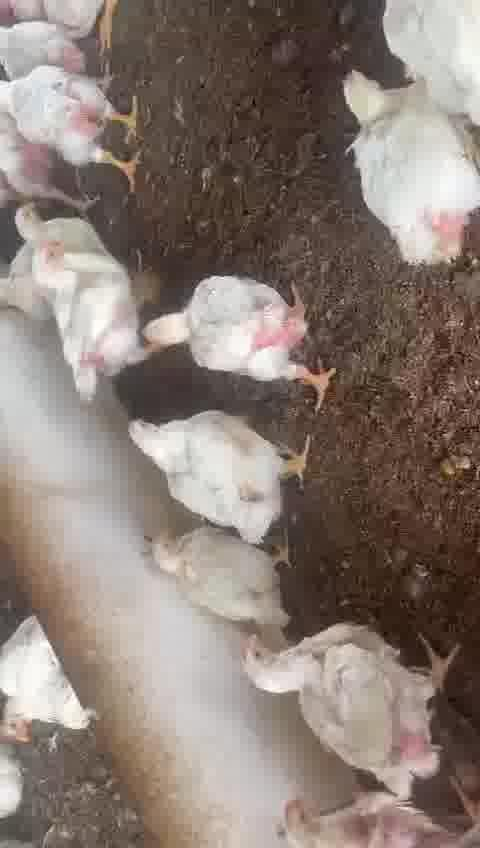AbNormal: (130, 499, 293, 640), (215, 744, 423, 848)
Normal: (236, 621, 465, 786), (338, 64, 476, 264), (136, 271, 343, 400), (123, 406, 311, 535), (0, 62, 149, 188), (30, 238, 151, 378), (4, 18, 125, 77)
